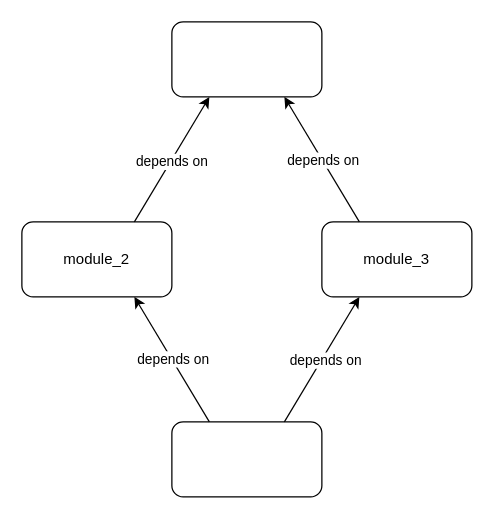
This 494x519 diagram has some shape labels left out. Each missing label, with the centre of its shape:
module_1: (246,59)
module_4: (246,459)
